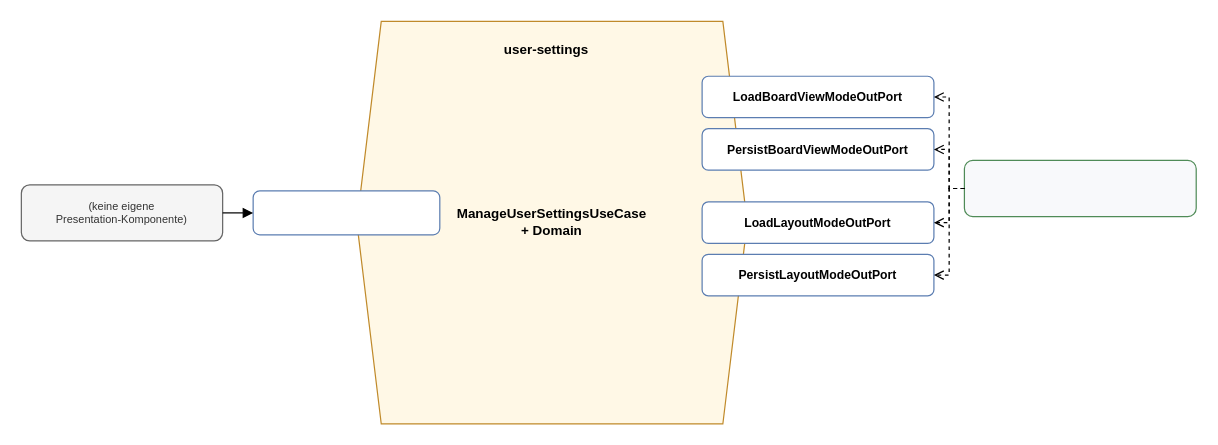
The diagram is 1218 pixels wide and 445 high, and some of its shapes have lost their labels. Each missing label, with the centre of its shape:
LocalStorageUserSettingsRepository: pixel 1079 188
ManageUserSettingsInPort: pixel 346 212
